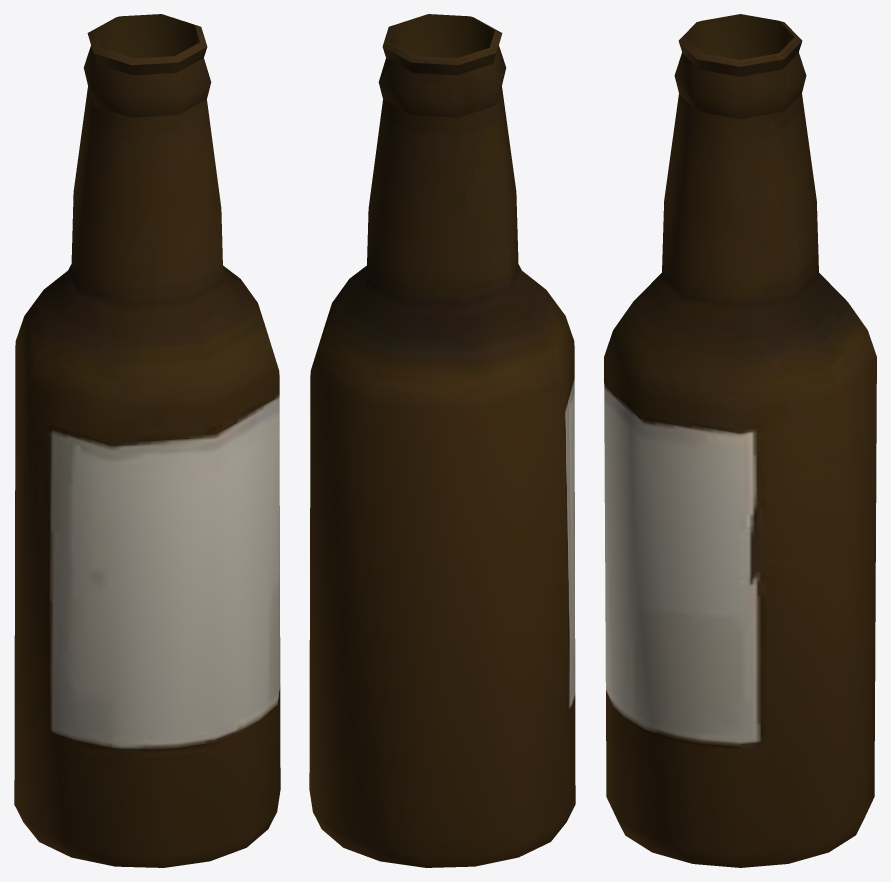
3 renders of one model, left to right at view 1: azimuth 30°, elevation 25°; view 2: azimuth 150°, elevation 25°; view 3: azimuth 270°, elevation 25°, orthographic.
Parts seen in each view (by area): view 1: body0_model0_lod0_mesh0; view 2: body0_model0_lod0_mesh0; view 3: body0_model0_lod0_mesh0.
Boxes of the visible parts, x1,y1,x2,y2 form: body0_model0_lod0_mesh0: (14, 14, 280, 867); body0_model0_lod0_mesh0: (309, 14, 575, 867); body0_model0_lod0_mesh0: (604, 14, 876, 867).
Bounding box in the file's own units: 7 × 22.01 × 7.
Materials: 1 (1 with a texture image).
